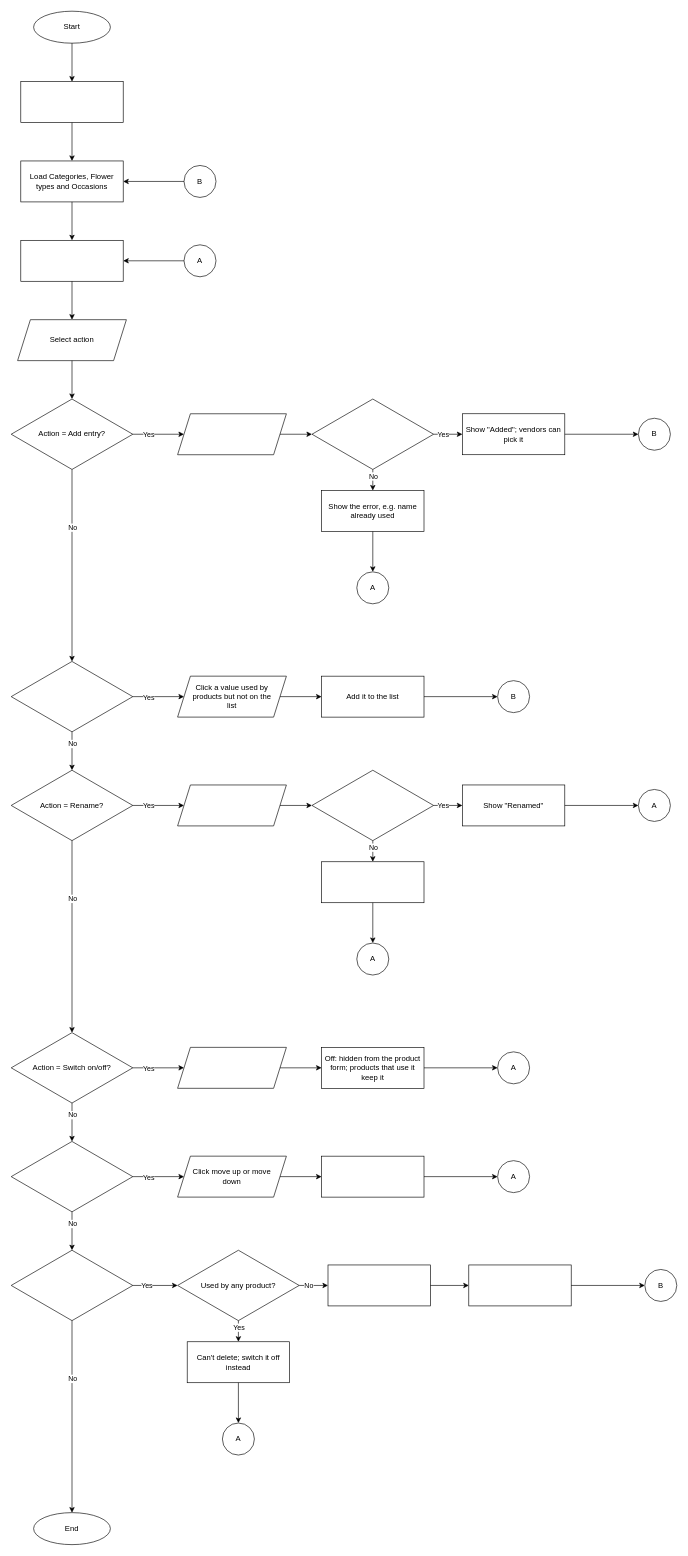
Image size: 688x1556. Some labels were removed from this diagram. Each missing label, with the box of its shape:
Action = Add unlisted value?: (11, 661, 133, 732)
Action = Delete?: (11, 1250, 133, 1321)
Action = Reorder?: (11, 1141, 133, 1212)
Added?: (311, 398, 434, 469)
Delete the entry: (327, 1264, 430, 1306)
Enter a name and click Add: (177, 413, 286, 455)
Flip the switch: (177, 1047, 286, 1088)
Open Category Management: (20, 81, 123, 123)
Put the old name back and show an error: (321, 861, 424, 903)
Save the new order vendors see: (321, 1156, 424, 1197)
Saved?: (311, 770, 434, 841)
Show "Deleted": (468, 1264, 571, 1306)
Show each list: entries, product counts, on/off, unlisted values: (20, 240, 123, 281)
Type the new name: (177, 784, 286, 826)
